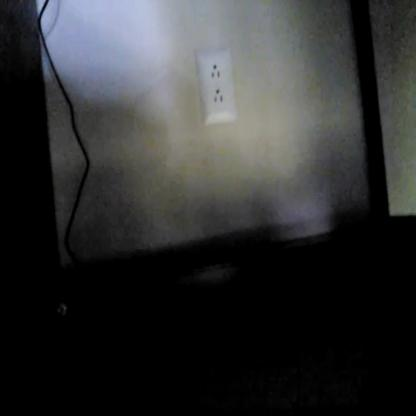OUTLET: (194, 50, 236, 125)
